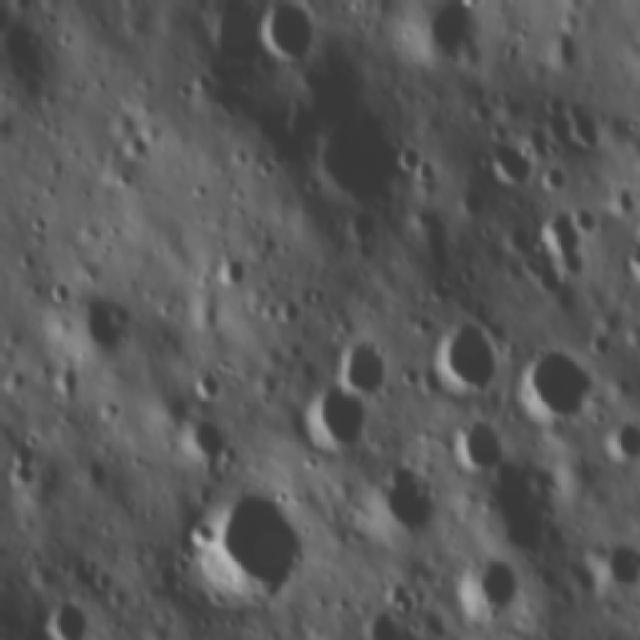crater: (195, 482, 312, 610), (308, 103, 406, 209), (287, 373, 382, 455), (423, 311, 506, 404), (514, 338, 594, 434), (354, 463, 446, 542), (411, 0, 495, 77), (452, 548, 528, 628), (327, 324, 402, 402), (66, 285, 134, 370), (199, 0, 272, 77), (530, 198, 584, 288), (260, 1, 323, 65), (448, 411, 508, 478), (593, 531, 636, 597), (38, 590, 96, 635), (180, 412, 226, 468), (485, 140, 533, 192), (598, 412, 638, 472), (106, 124, 154, 170), (5, 435, 50, 483), (544, 22, 579, 75), (191, 362, 227, 411), (171, 66, 218, 102), (535, 158, 576, 198), (392, 132, 426, 174), (213, 254, 245, 292), (272, 288, 302, 327), (568, 203, 604, 235), (414, 156, 446, 190), (47, 278, 78, 310), (607, 183, 636, 217)
